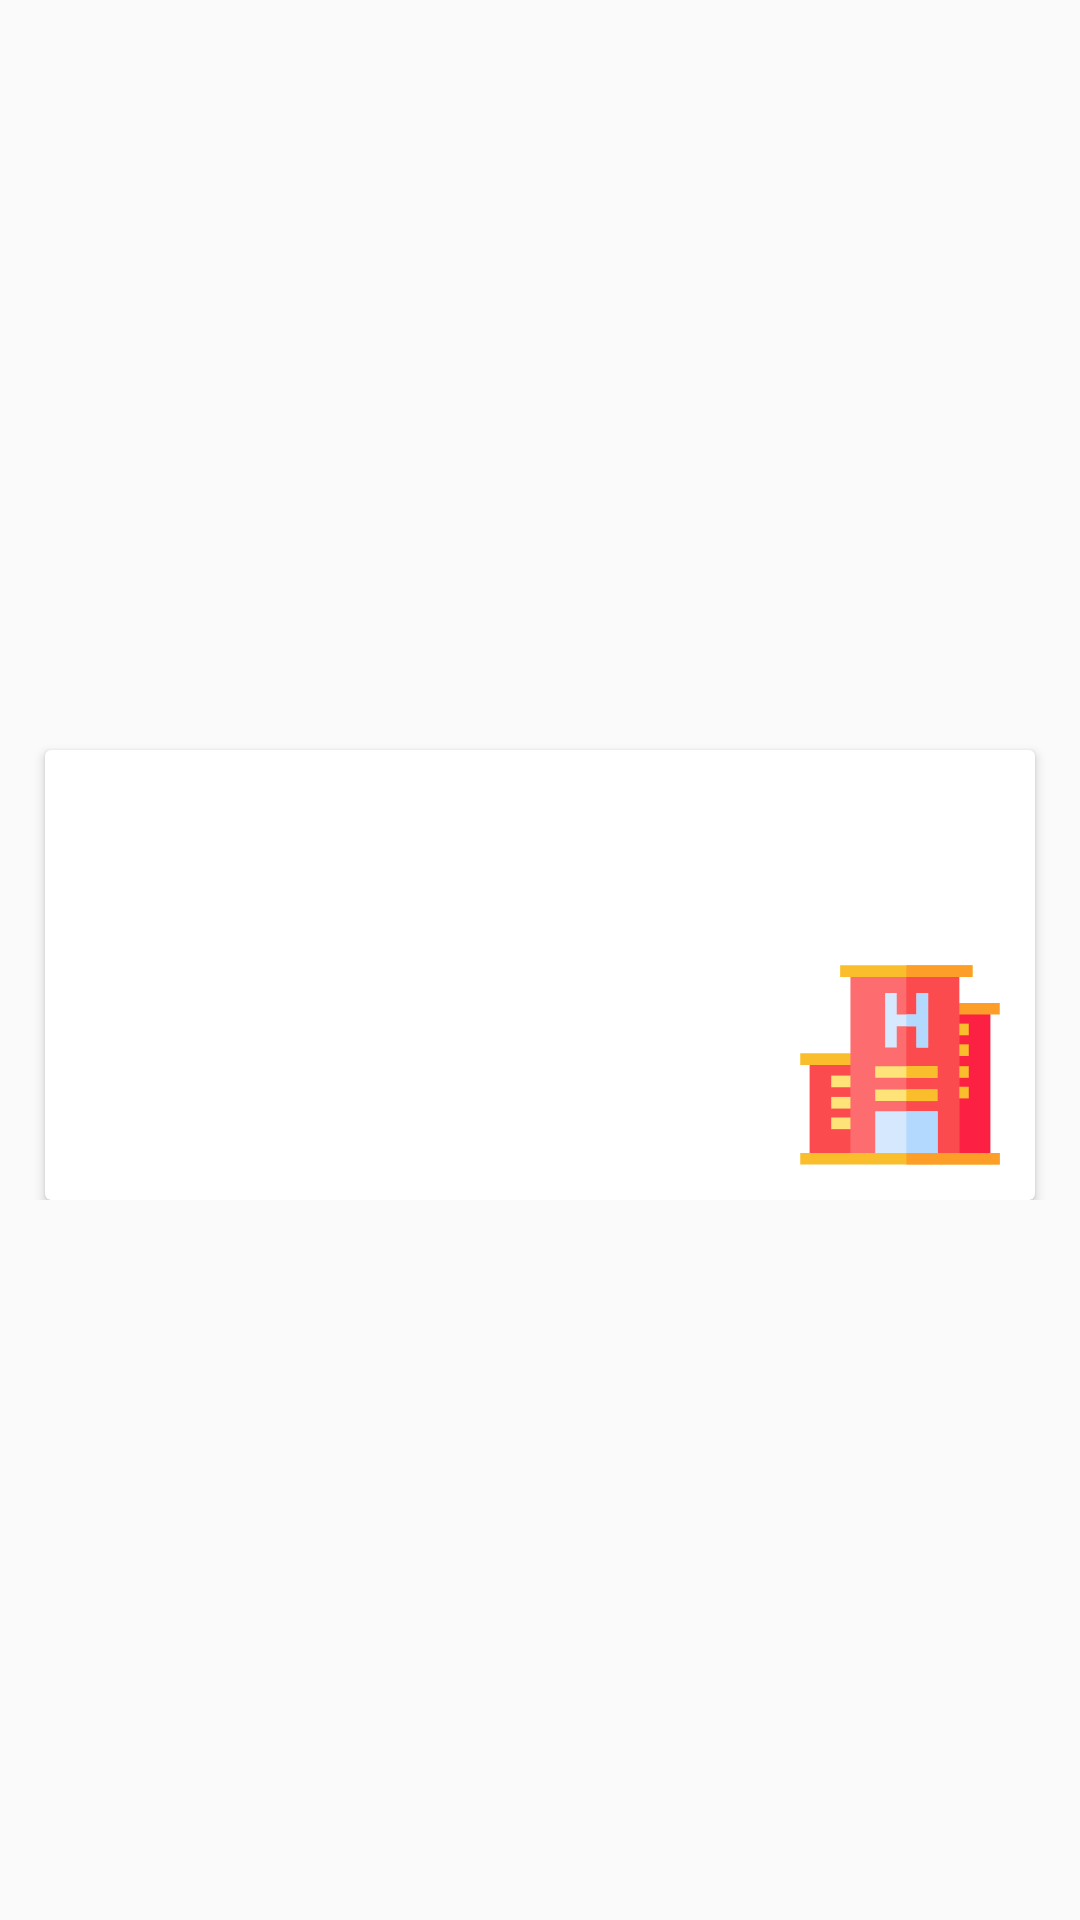

Point at icon controls on the screen. Image size 1080*1920, points as (x=x, y=y).
hostel: (x=900, y=1065)
